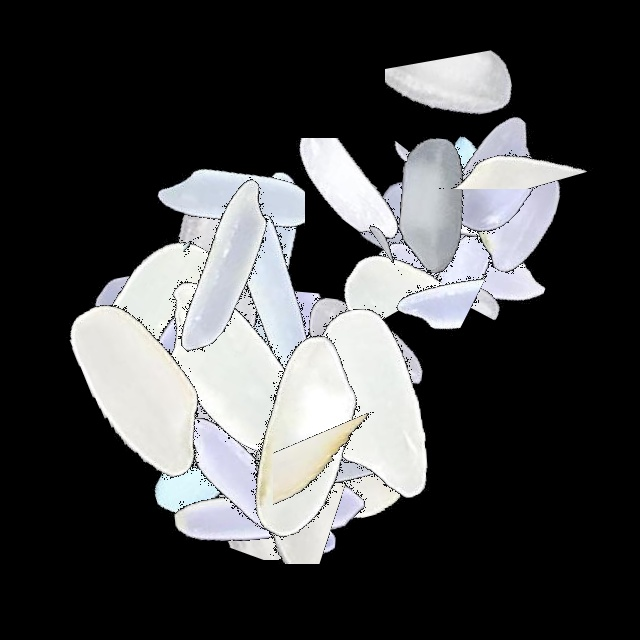Broken: (37, 213, 287, 387), (134, 399, 384, 564), (198, 138, 448, 302), (148, 117, 305, 367), (436, 58, 587, 308), (74, 198, 324, 346), (151, 415, 401, 560), (162, 291, 412, 434), (385, 1, 522, 251), (375, 194, 625, 330), (317, 195, 567, 328), (124, 181, 242, 431), (390, 73, 640, 189), (273, 366, 388, 616), (85, 359, 335, 469), (380, 133, 488, 383), (335, 129, 442, 379), (365, 98, 469, 348), (410, 119, 513, 369), (390, 111, 640, 214), (380, 127, 630, 230), (318, 200, 568, 299), (390, 77, 640, 175), (93, 366, 343, 459), (183, 144, 273, 394), (167, 367, 417, 453), (232, 131, 315, 381)
Full: (136, 157, 386, 407), (14, 199, 264, 449), (109, 188, 359, 438), (168, 373, 418, 623), (177, 339, 427, 589), (288, 92, 538, 342), (334, 146, 584, 396), (107, 310, 357, 560), (187, 323, 437, 573), (239, 222, 489, 472), (143, 390, 393, 640), (390, 90, 640, 340), (97, 321, 347, 571), (373, 55, 623, 305), (305, 78, 555, 328), (136, 362, 386, 612), (234, 323, 484, 573), (245, 280, 495, 530), (138, 164, 388, 414), (109, 244, 359, 494), (15, 263, 265, 513), (98, 145, 348, 395), (173, 313, 423, 563)
